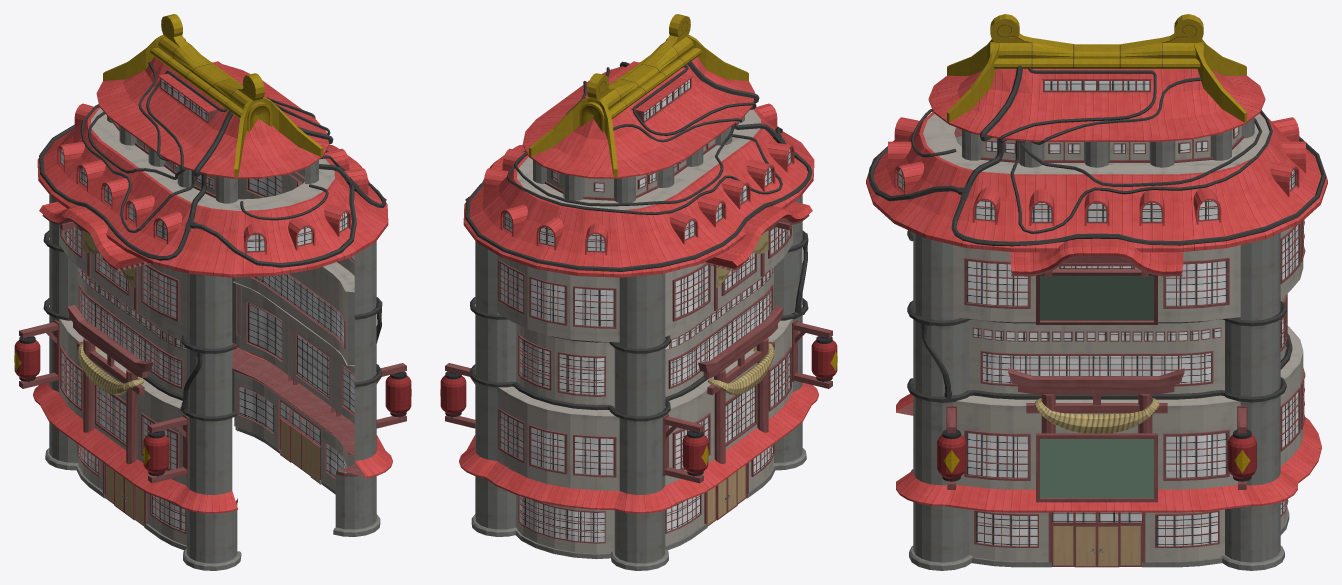
File: REDUCTION_SM_ENV_KNVLLG_CommonBuilding_E_3.fbx
The picture shows the model from 3 angles, left to right: view 1: azimuth 30°, elevation 25°; view 2: azimuth 150°, elevation 25°; view 3: azimuth 270°, elevation 25°; orthographic projection. The views are drawn at different scales.
Visible parts, largest first — view 1: REDUCTION_SM_ENV_KNVLLG_CommonBuilding_E_3.mo; view 2: REDUCTION_SM_ENV_KNVLLG_CommonBuilding_E_3.mo; view 3: REDUCTION_SM_ENV_KNVLLG_CommonBuilding_E_3.mo.
Boxes of the visible parts, box(x1,y1,x2,y2) form: REDUCTION_SM_ENV_KNVLLG_CommonBuilding_E_3.mo: box(14, 14, 411, 570); REDUCTION_SM_ENV_KNVLLG_CommonBuilding_E_3.mo: box(440, 14, 837, 570); REDUCTION_SM_ENV_KNVLLG_CommonBuilding_E_3.mo: box(866, 14, 1327, 570).
Size of the model in its own units: 5637 by 8824 by 7353.
